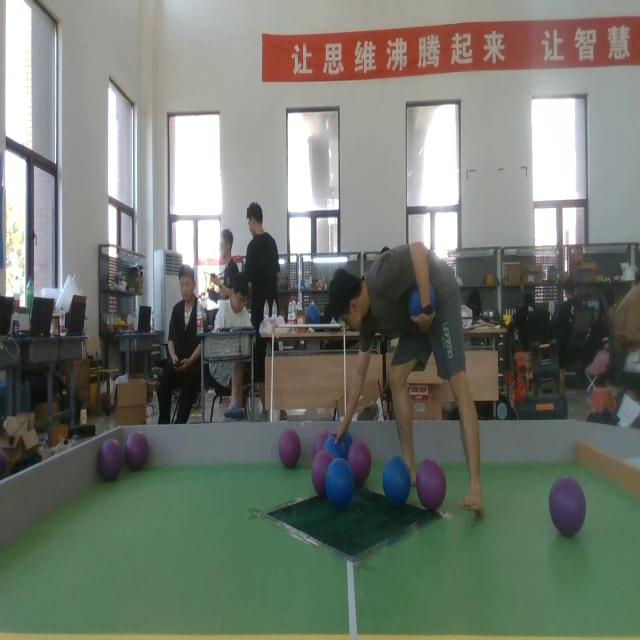blue: (325, 460, 354, 510), (382, 457, 410, 508), (323, 437, 342, 462), (339, 423, 353, 452)
invalid: (549, 476, 588, 544), (418, 458, 447, 512), (313, 451, 337, 495), (349, 440, 372, 485), (100, 435, 124, 476), (126, 430, 150, 470), (280, 427, 298, 468), (314, 432, 330, 453)
